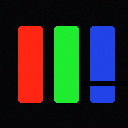3 line_h: (81, 81, 127, 85)
